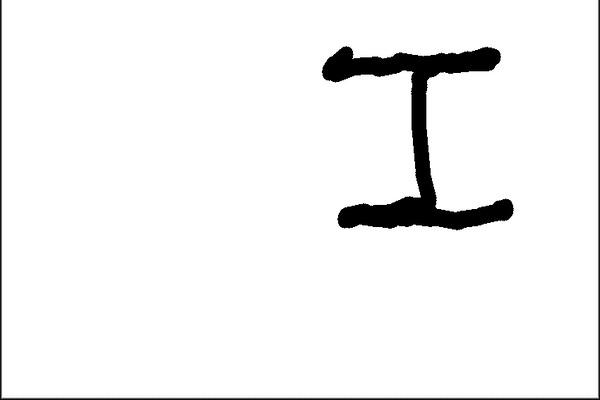i: (316, 36, 515, 233)
